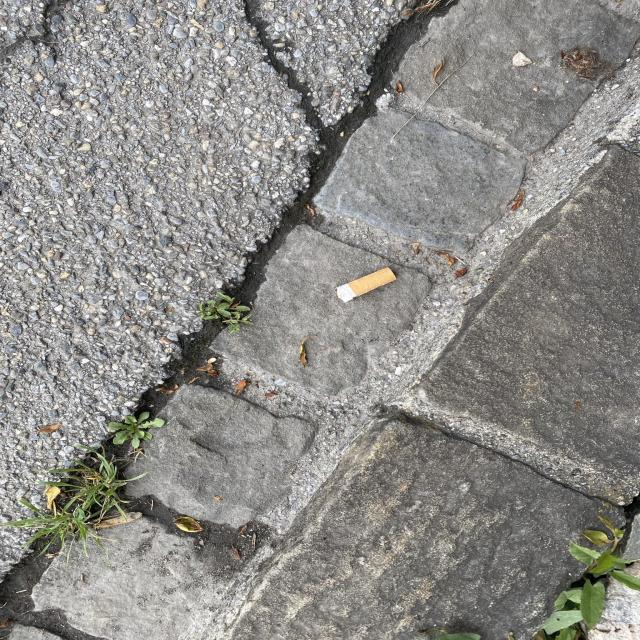other waste: (334, 266, 397, 302)
